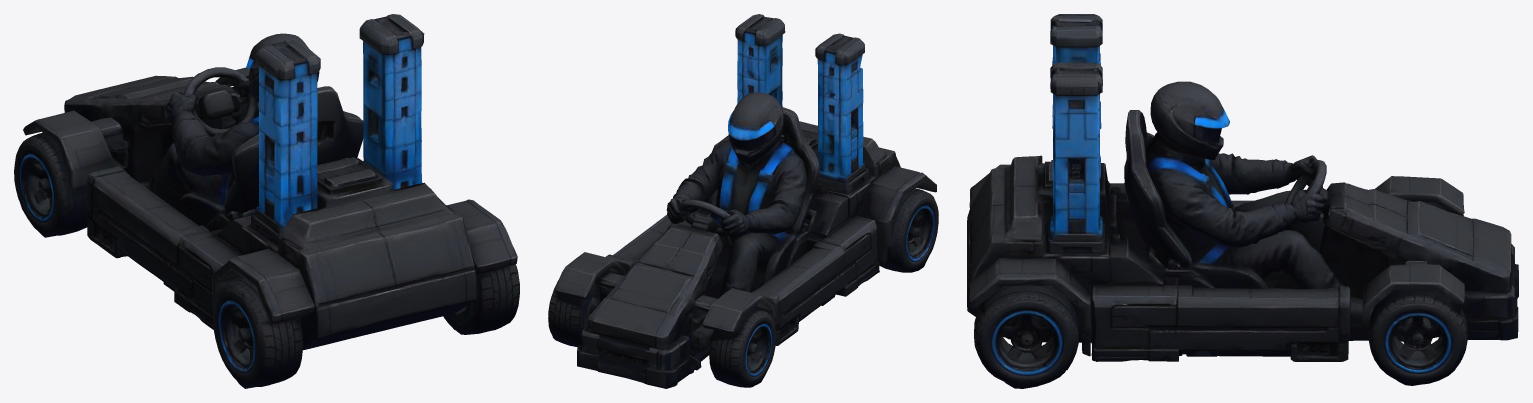
The model's file is terra-dark.glb.
3 renders of one model, left to right at view 1: azimuth 30°, elevation 25°; view 2: azimuth 150°, elevation 25°; view 3: azimuth 270°, elevation 25°, orthographic. The views are drawn at different scales.
Visible parts, largest first — view 1: chassis, wheel-rl, wheel-fl, wheel-rr, wheel-fr; view 2: chassis, wheel-rl, wheel-fl, wheel-fr; view 3: chassis, wheel-rr, wheel-fr.
Part boxes in pixels (x1=…): chassis: x1=14, y1=14, x2=517, y2=382; wheel-rl: x1=206, y1=231, x2=315, y2=388; wheel-fl: x1=15, y1=132, x2=108, y2=237; wheel-rr: x1=443, y1=199, x2=519, y2=334; wheel-fr: x1=221, y1=86, x2=257, y2=128; chassis: x1=548, y1=14, x2=936, y2=388; wheel-rl: x1=848, y1=167, x2=938, y2=274; wheel-fl: x1=708, y1=305, x2=776, y2=387; wheel-fr: x1=554, y1=272, x2=624, y2=328; chassis: x1=967, y1=14, x2=1518, y2=380; wheel-rr: x1=974, y1=258, x2=1096, y2=388; wheel-fr: x1=1368, y1=260, x2=1454, y2=385.
Bounding box in the file's own units: 2.35 × 2.55 × 4.5.
1 material, 1 textured.
